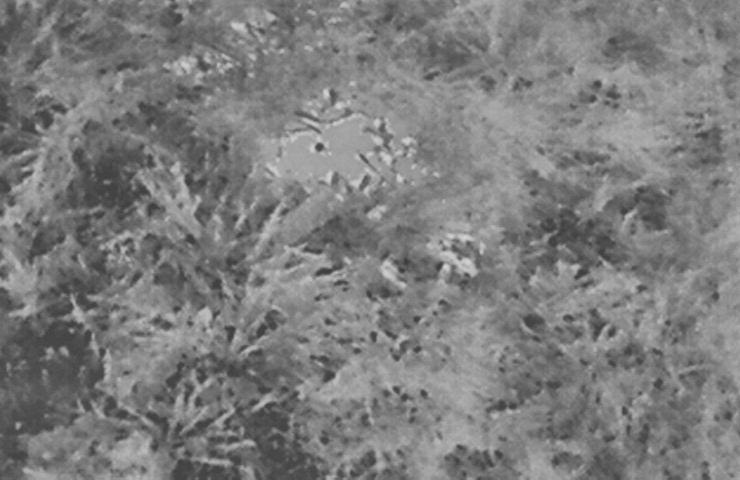landmines: (263, 92, 427, 226)
